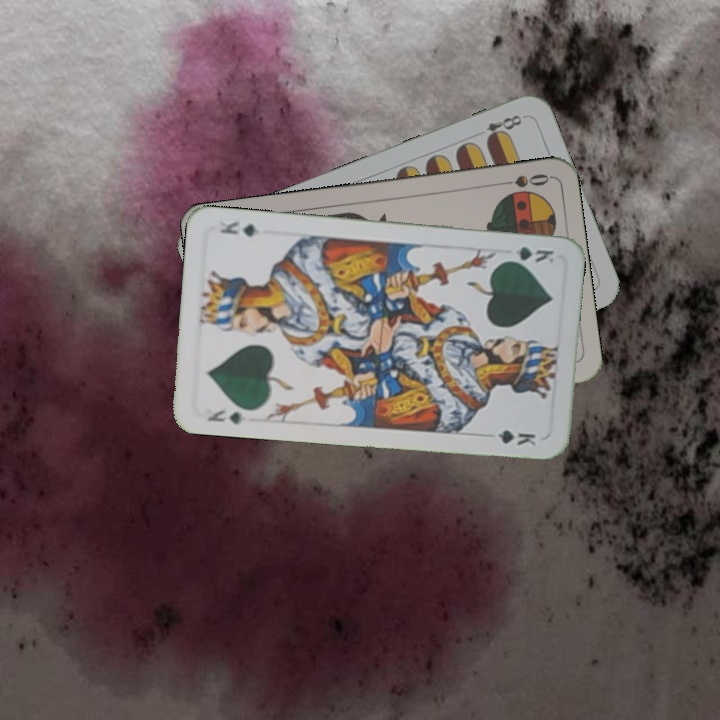E8: (481, 110, 525, 145)
GK: (499, 242, 557, 266), (203, 403, 250, 427)
SO: (493, 169, 552, 190)
